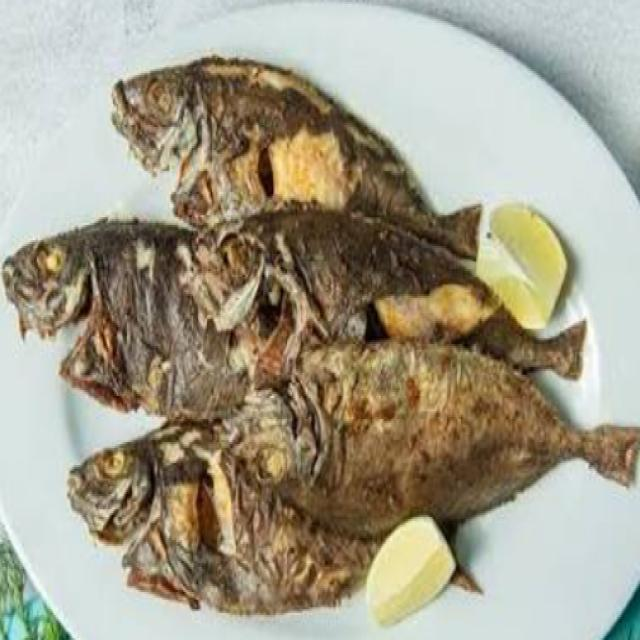Fried Fish: (18, 59, 573, 594)
